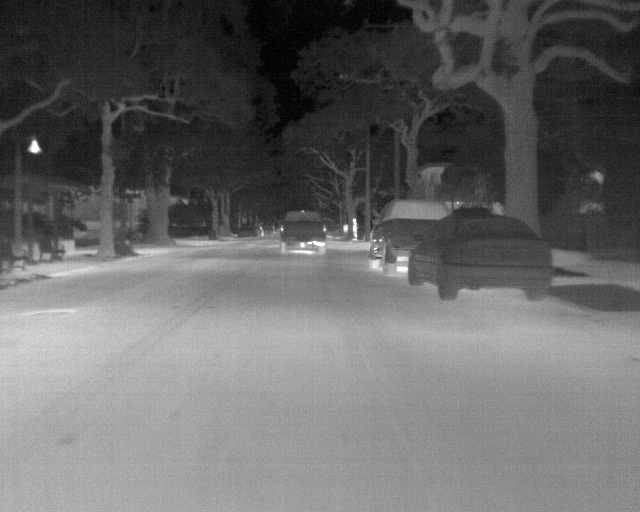vehicle: (410, 212, 551, 304), (369, 196, 451, 271), (279, 209, 329, 256)
